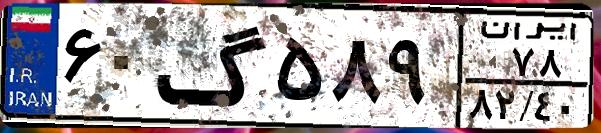0: (110, 28, 156, 98), (560, 70, 590, 125)
2: (495, 70, 520, 125)
4: (535, 70, 560, 125)
5: (270, 28, 330, 110)
6: (57, 26, 110, 100)
7: (508, 27, 537, 80)
8: (330, 28, 385, 110), (537, 27, 568, 80), (470, 70, 495, 125)
9: (385, 28, 445, 110)
گ: (156, 12, 270, 120)
